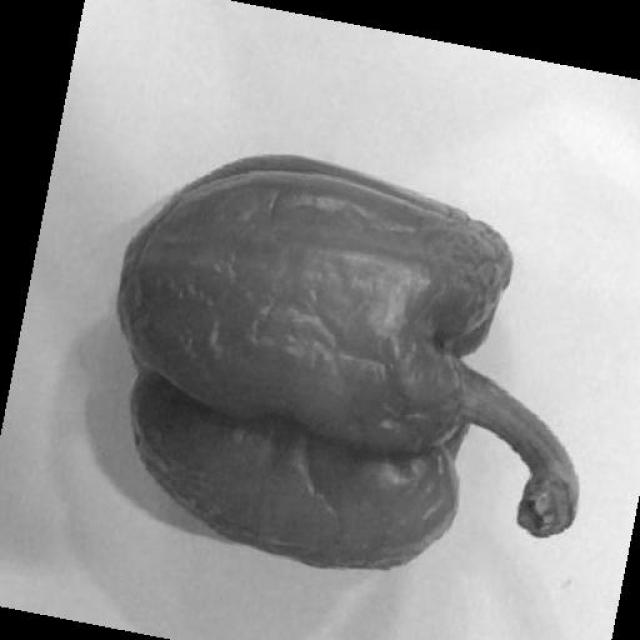Stale_Capsicum: (109, 126, 558, 562)
